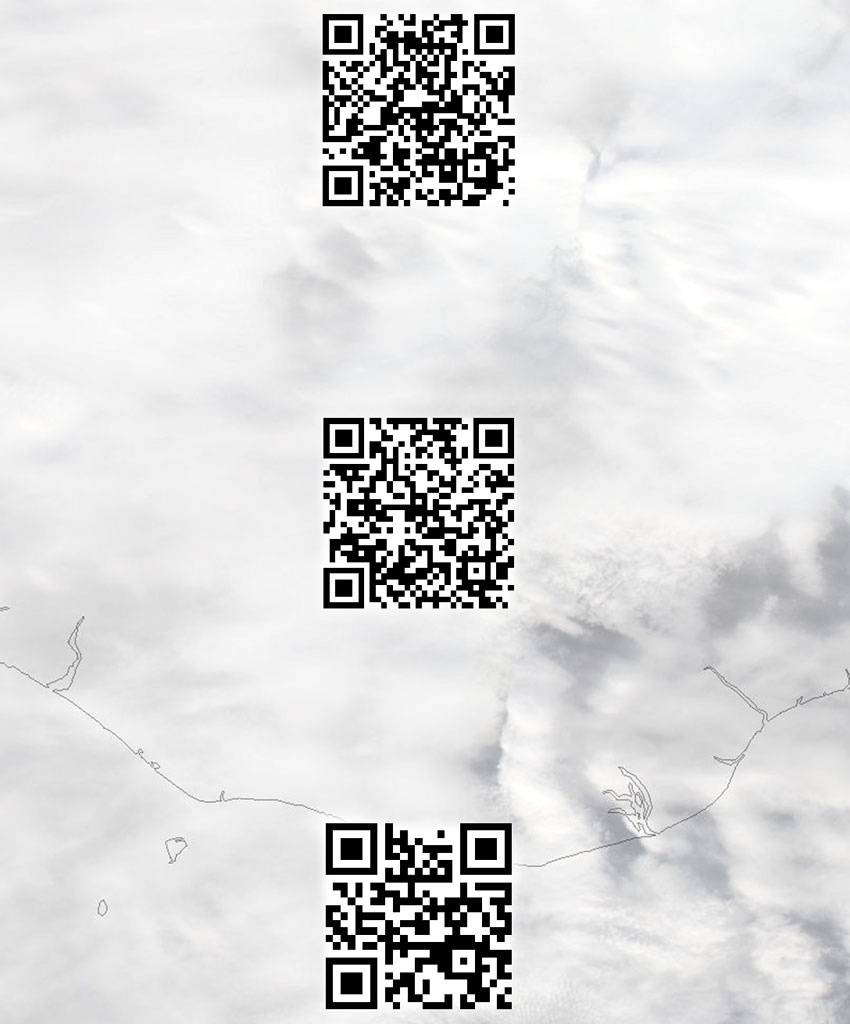QR-CODE: (322, 14, 514, 206), (323, 417, 514, 608), (325, 823, 511, 1009)
